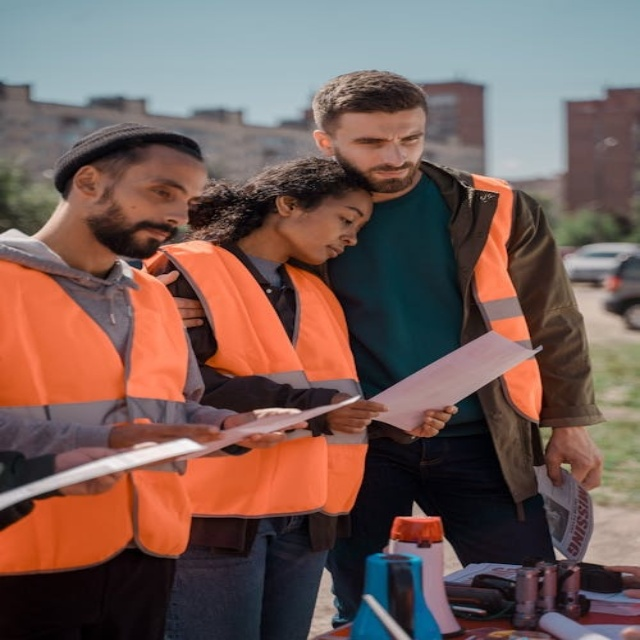Sin_gafas: (132, 171, 206, 208), (343, 129, 425, 149), (326, 201, 367, 230)
Sin_guantes: (216, 407, 312, 451), (543, 428, 607, 493), (47, 445, 139, 489), (106, 419, 225, 451), (313, 396, 390, 437), (408, 404, 458, 440)
Sin_mascara: (131, 218, 180, 258), (308, 238, 351, 265), (370, 166, 410, 189)
